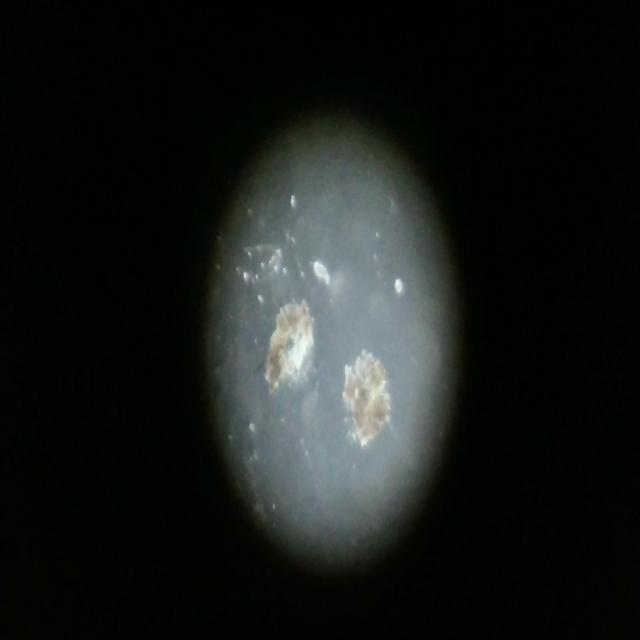alexandrium: (257, 288, 326, 402), (342, 346, 391, 446)
